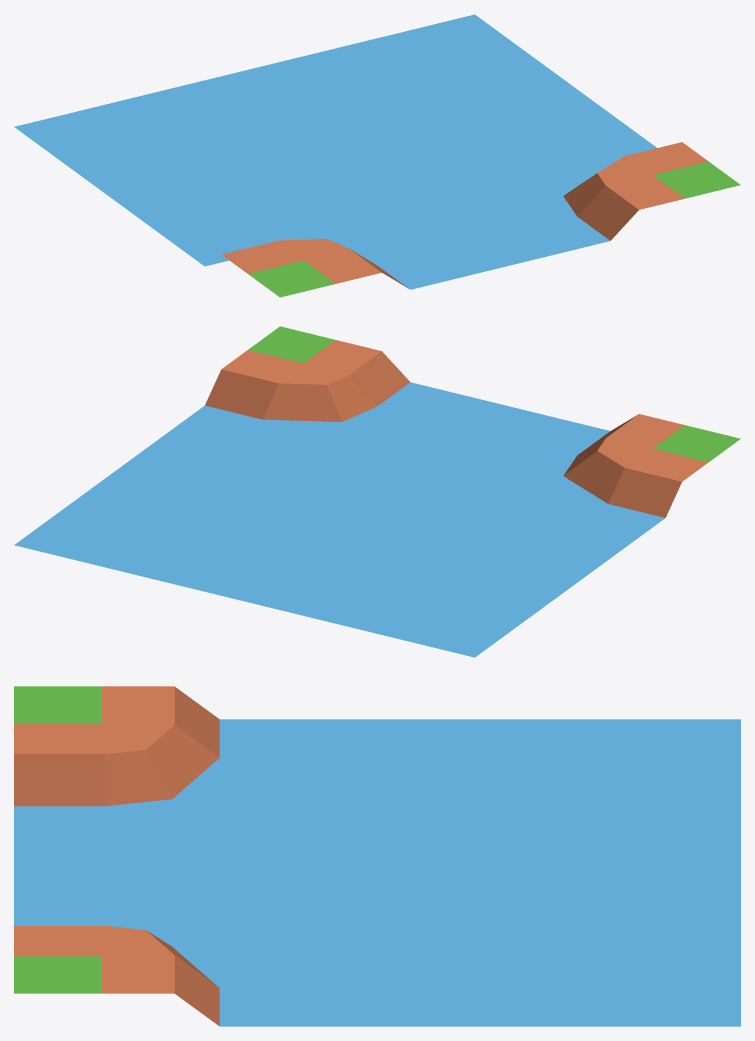
The model's file is ground_riverSideOpen.glb.
3 renders of one model, top to bottom at view 1: azimuth 30°, elevation 25°; view 2: azimuth 150°, elevation 25°; view 3: azimuth 270°, elevation 25°, orthographic. The views are drawn at different scales.
Parts seen in each view (by area): view 1: ground_riverSideOpen; view 2: ground_riverSideOpen; view 3: ground_riverSideOpen.
Boxes of the visible parts, x1=… form: ground_riverSideOpen: x1=14, y1=14, x2=740, y2=297; ground_riverSideOpen: x1=14, y1=326, x2=740, y2=657; ground_riverSideOpen: x1=14, y1=686, x2=740, y2=1026.
Size of the model in its own units: 1 by 0.05 by 1.
